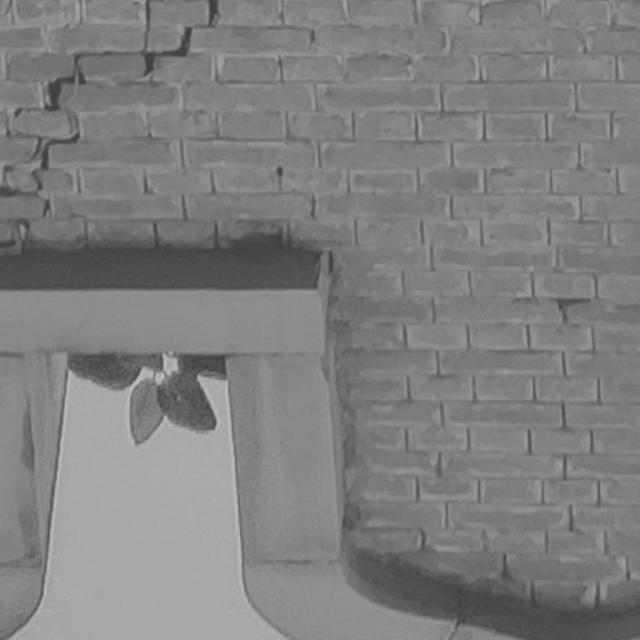crack: (0, 1, 222, 247)
